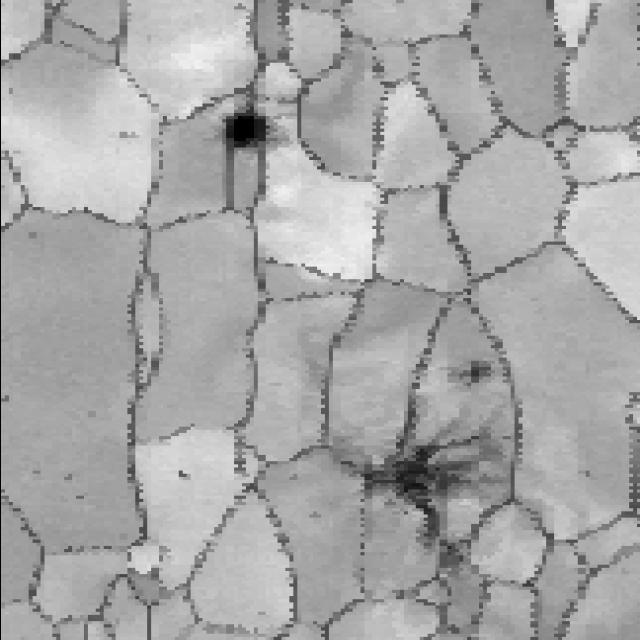good_void: (329, 414, 527, 565), (217, 106, 286, 162), (436, 357, 499, 396), (175, 464, 197, 484), (114, 128, 138, 146), (0, 394, 14, 406)
